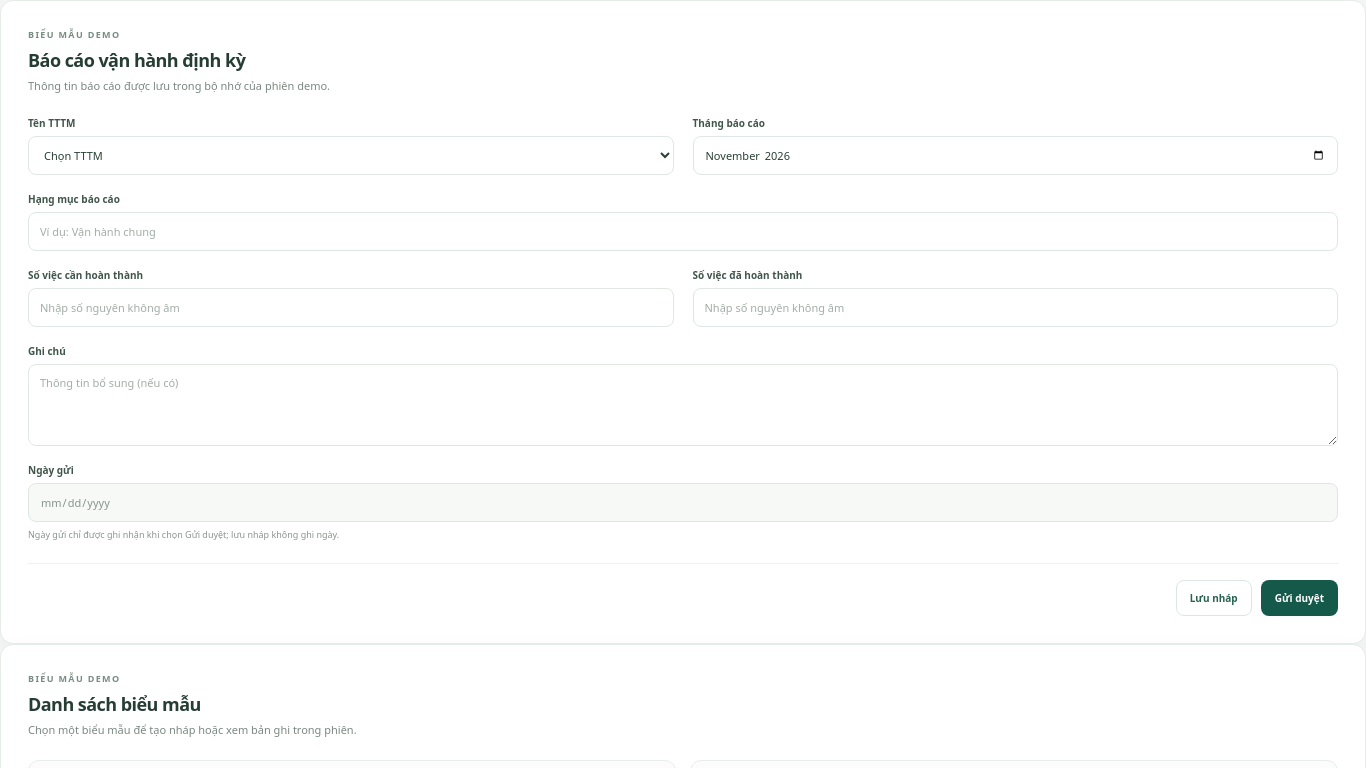
Scenario: Báo cáo vận hành định kỳ › TC02: bỏ trống trường bắt buộc thì không gửi, nhưng vẫn lưu được nháp không có ngày gửi
Clear the field labelled "Tháng báo cáo" at (1015, 156), box [692,136,1338,175]
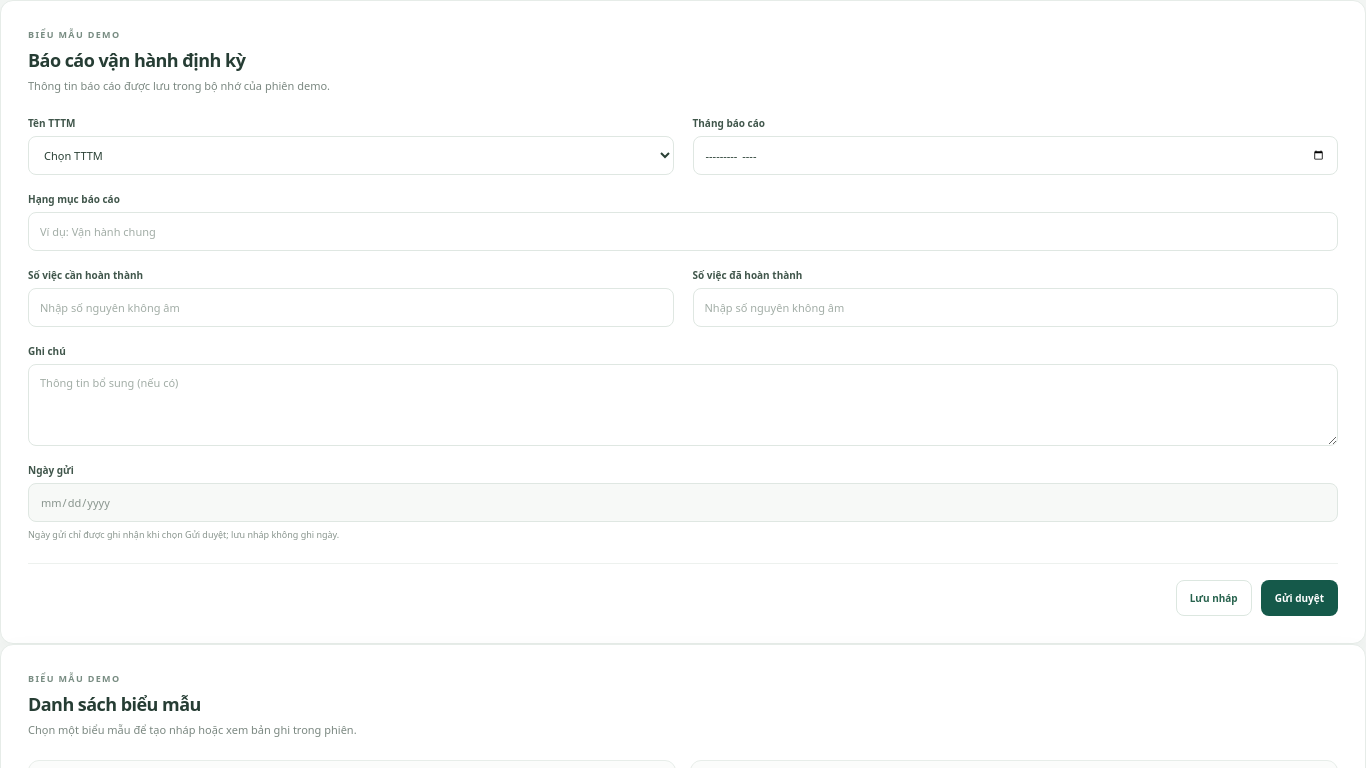
Click the button "Gửi duyệt" at (1299, 598), box [1261,580,1338,616]
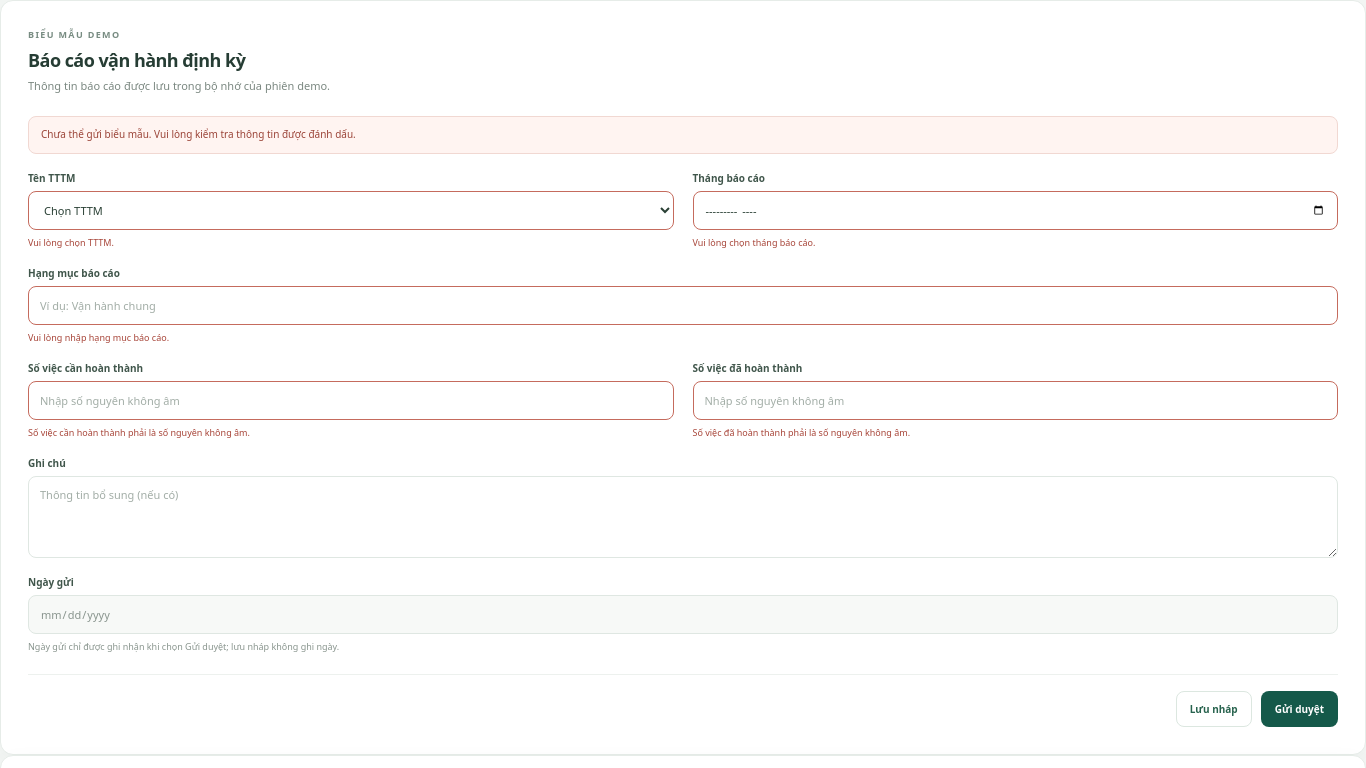
Now the text "Vui lòng chọn TTTM." is shown, box [28,236,114,248]
Now the text "Vui lòng chọn tháng báo cáo." is shown, box [692,236,815,248]
Now the text "Vui lòng nhập hạng mục báo cáo." is shown, box [28,331,169,344]
Click the button "Lưu nháp" at (1214, 709), box [1176,691,1252,727]
(page scrolled)
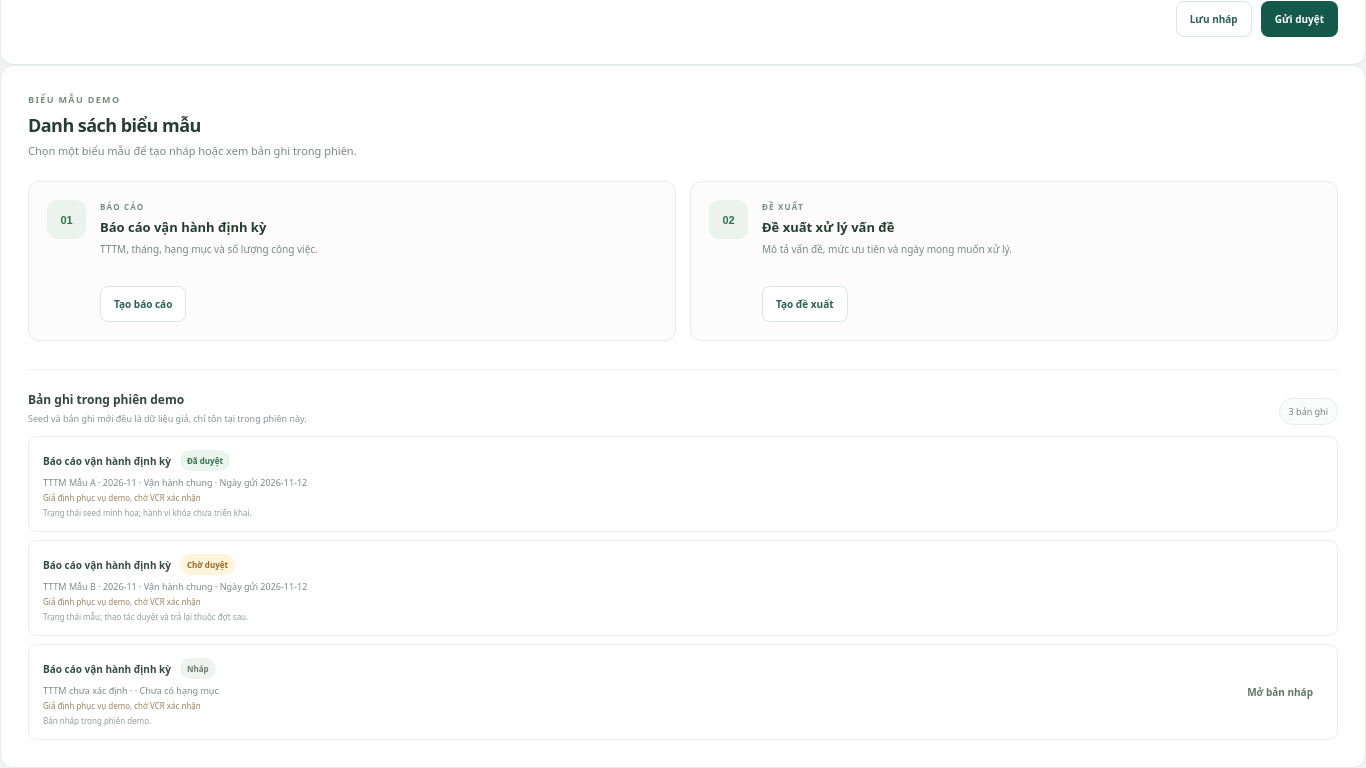
Now the text "Nháp" is shown, box [180,658,216,679]
Now the text "3 bản ghi" is shown, box [1279,398,1338,425]
